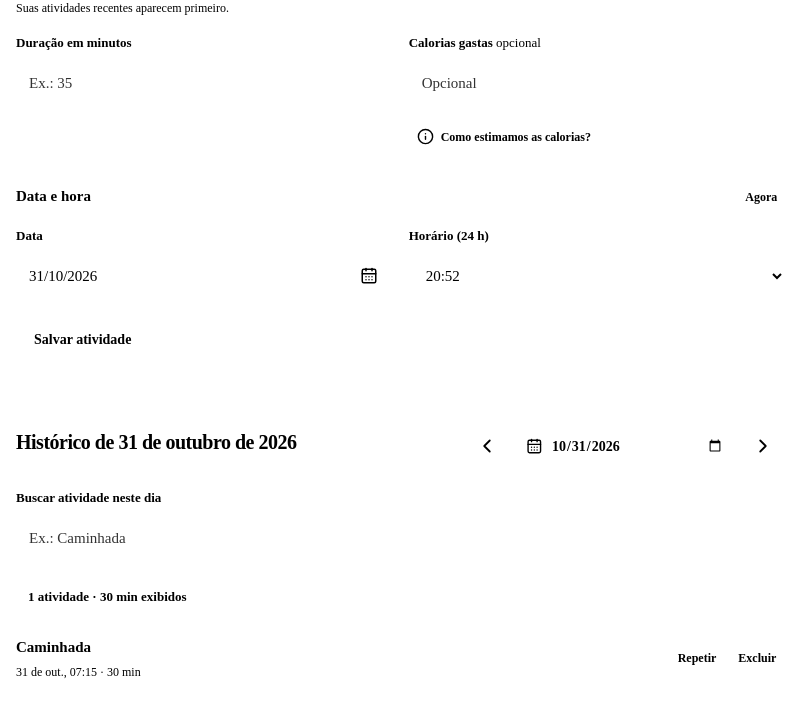
Test: histórico de atividades por dia › mantém a limpeza atual no controle quando a busca não encontra atividade
(page scrolled)
Step 1. Type "corrida" into the search field labelled "Buscar atividade neste dia" → (401, 538), box [16, 514, 785, 562]
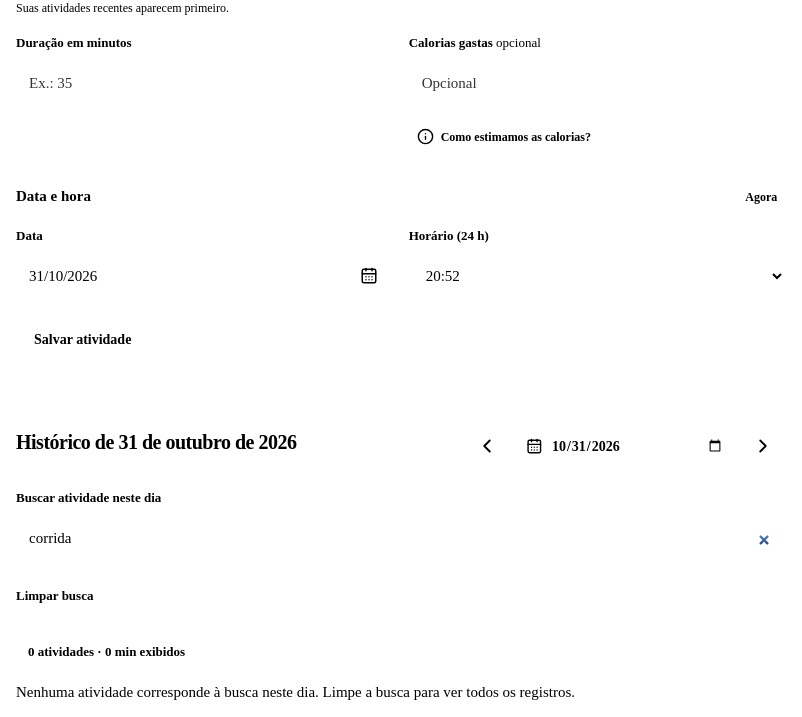
Check: the text "Nenhuma atividade corresponde à busca" is shown, box [16, 684, 575, 700]
Check: the button "Limpar busca" is shown, box [16, 574, 785, 618]
